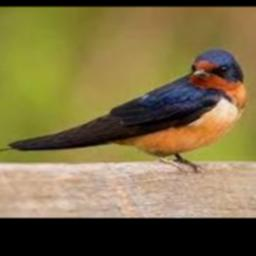Swallow: (0, 50, 249, 174)
